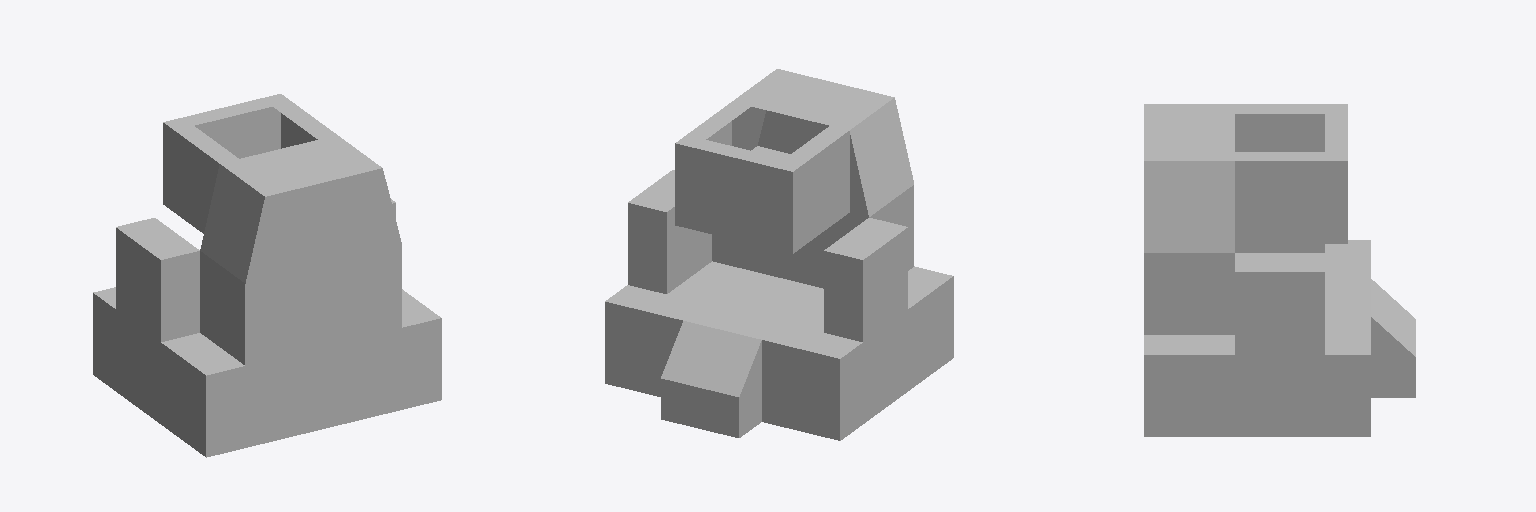
File: stamping_press.obj
The picture shows the model from 3 angles: view 1: azimuth 30°, elevation 25°; view 2: azimuth 150°, elevation 25°; view 3: azimuth 270°, elevation 25°; orthographic projection.
Parts seen in each view (by area): view 1: cuboid, output; view 2: cuboid, terminal, output, input; view 3: cuboid, input, terminal, output.
Part boxes in pixels (x1,y1,x2,y2): cuboid: (93,94,441,457); output: (116,218,199,341); cuboid: (605,69,953,440); terminal: (661,304,783,437); output: (824,218,907,341); input: (628,170,711,293); cuboid: (1144,104,1370,436); input: (1235,253,1324,354); terminal: (1325,278,1415,397); output: (1235,244,1324,252).
Bounding box in the file's own units: 3 × 3 × 3.